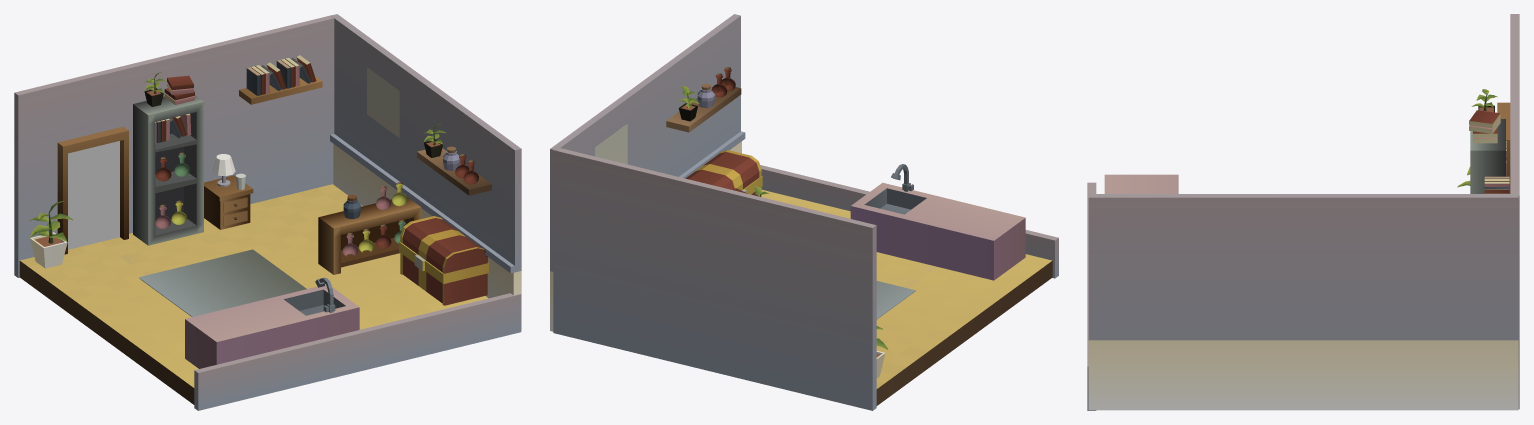
The model's file is base_bedroom.glb.
3 renders of one model, left to right at view 1: azimuth 30°, elevation 25°; view 2: azimuth 150°, elevation 25°; view 3: azimuth 270°, elevation 25°, orthographic. The views are drawn at different scales.
Parts seen in each view (by area): view 1: Plane, Cube, Plane001, Plane002, Plane008, Cube005, Plane004, Plane021, Cube003, Plane030, Cube007, Plane014 (+5 smaller); view 2: Plane, Plane001, Cube, Cube005, Plane002, Plane014, Cube003, Plane009, Plane021; view 3: Plane001, Plane, Plane008, Cube005, Plane029, Plane002, Plane004, Plane025.
Part boxes in pixels (x1,y1,x2,y2): Plane: [14, 15, 334, 277]; Cube: [19, 184, 488, 404]; Plane001: [330, 14, 521, 330]; Plane002: [194, 293, 521, 410]; Plane008: [133, 95, 203, 245]; Cube005: [185, 277, 359, 368]; Plane004: [57, 126, 128, 254]; Plane021: [139, 249, 306, 316]; Cube003: [399, 216, 488, 305]; Plane030: [318, 182, 421, 274]; Cube007: [204, 154, 253, 229]; Plane014: [417, 123, 491, 195]; Plane: [553, 148, 876, 410]; Plane001: [550, 14, 745, 331]; Cube: [761, 189, 1052, 405]; Cube005: [850, 164, 1025, 280]; Plane002: [760, 165, 1058, 278]; Plane014: [666, 67, 741, 132]; Cube003: [685, 150, 762, 196]; Plane009: [595, 124, 627, 164]; Plane021: [876, 281, 915, 319]; Plane001: [1088, 194, 1518, 410]; Plane: [1510, 14, 1519, 409]; Plane008: [1470, 119, 1506, 193]; Cube005: [1104, 174, 1178, 193]; Plane029: [1469, 110, 1500, 133]; Plane002: [1087, 182, 1096, 410]; Plane004: [1497, 102, 1510, 193]; Plane025: [1484, 176, 1509, 193].
Size of the model in its own units: 3.4 by 1.87 by 3.36.
2 materials, 1 textured.
